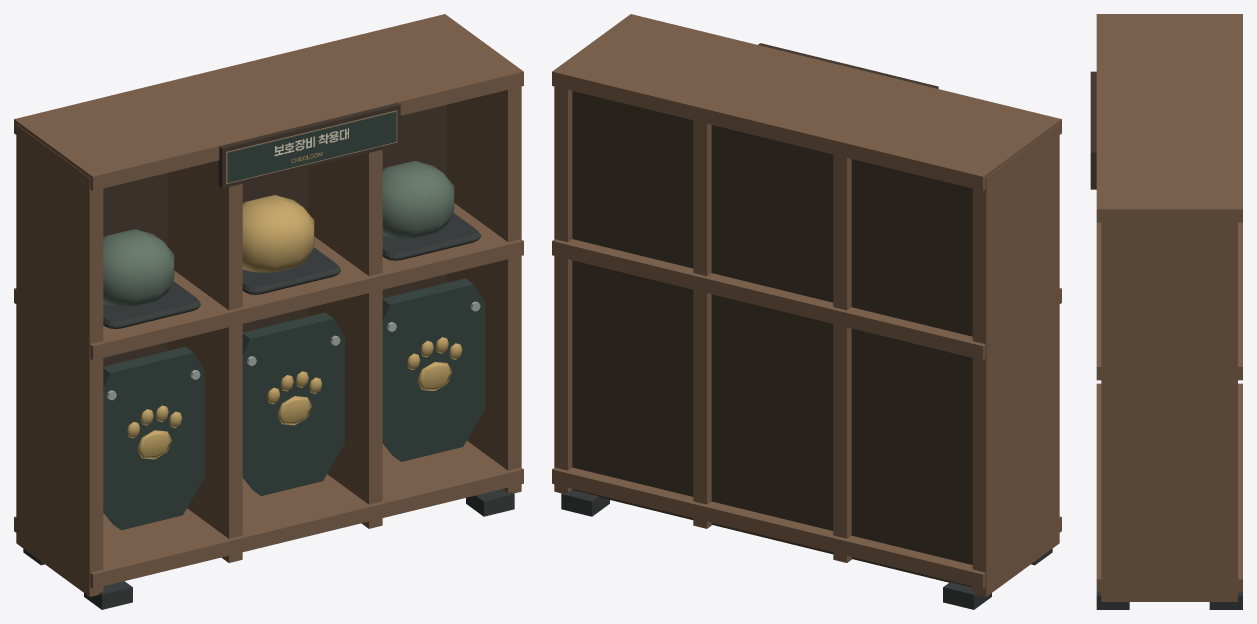
File: 02_Protective_Gear_Rack.fbx
3 views of the same model, side by side, from view 1: azimuth 30°, elevation 25°; view 2: azimuth 150°, elevation 25°; view 3: azimuth 270°, elevation 25° (orthographic). The views are drawn at different scales.
Visible parts, largest first — view 1: Structure.001, Equipment_3, Equipment_2, Equipment_1; view 2: Structure.001; view 3: Structure.001.
Part boxes in pixels (x1=…): Structure.001: x1=14, y1=14, x2=523, y2=609; Equipment_3: x1=382, y1=161, x2=484, y2=461; Equipment_2: x1=242, y1=195, x2=344, y2=496; Equipment_1: x1=103, y1=229, x2=204, y2=530; Structure.001: x1=552, y1=14, x2=1061, y2=609; Structure.001: x1=1090, y1=14, x2=1242, y2=609.
Bounding box in the file's own units: 237 × 229 × 78.3.
Materials: 2 (2 with a texture image).
